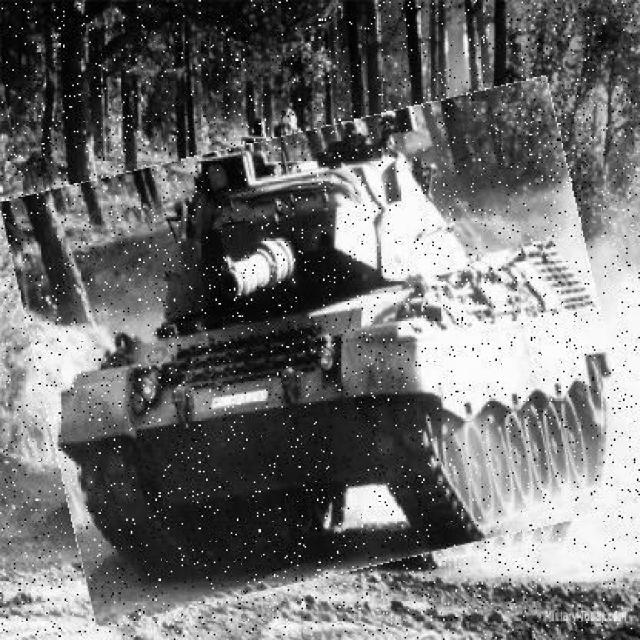Tank: (21, 106, 624, 601)
